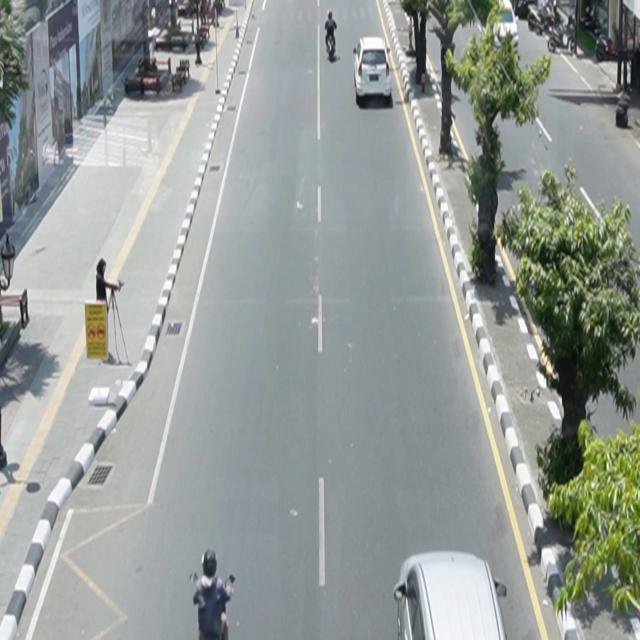car: (394, 551, 509, 640), (354, 37, 392, 102)
